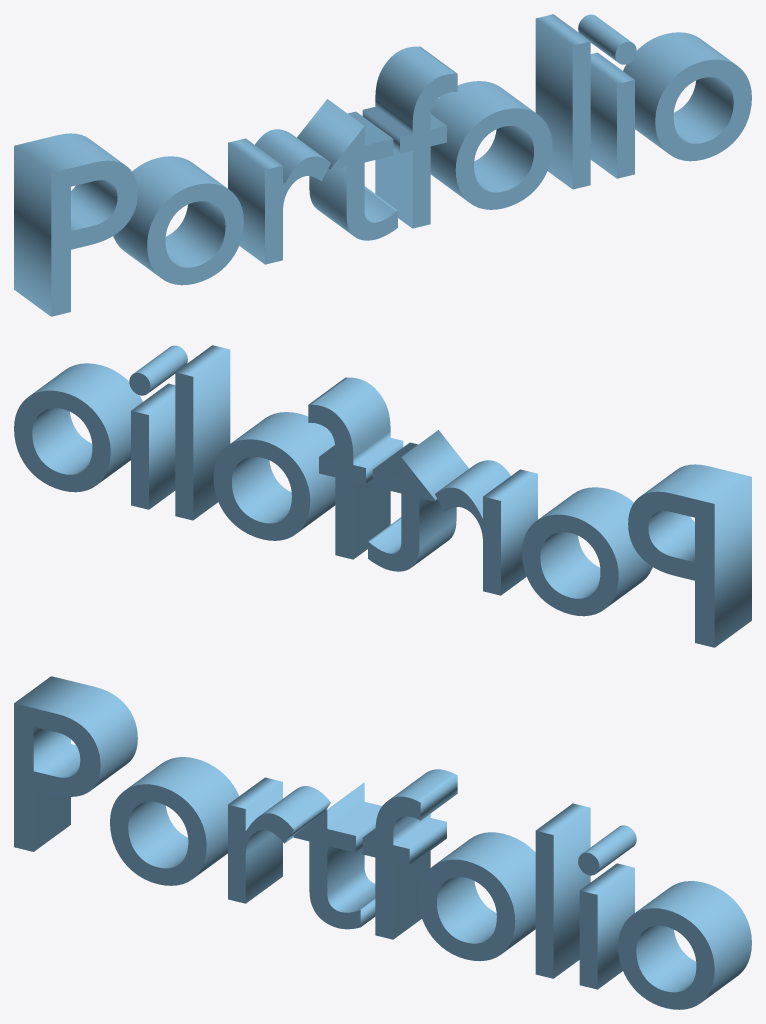
The picture shows the model from 3 angles, top to bottom: view 1: azimuth 30°, elevation 25°; view 2: azimuth 150°, elevation 25°; view 3: azimuth 330°, elevation 25°; orthographic projection.
Visible parts, largest first — view 1: Text.006; view 2: Text.006; view 3: Text.006.
Part boxes in pixels (left/top/right/bottom): Text.006: left=14, top=14, right=751, bottom=316; Text.006: left=14, top=345, right=751, bottom=647; Text.006: left=14, top=676, right=751, bottom=1009.
Bounding box in the file's own units: 0.5017 × 0.1011 × 0.0462.
